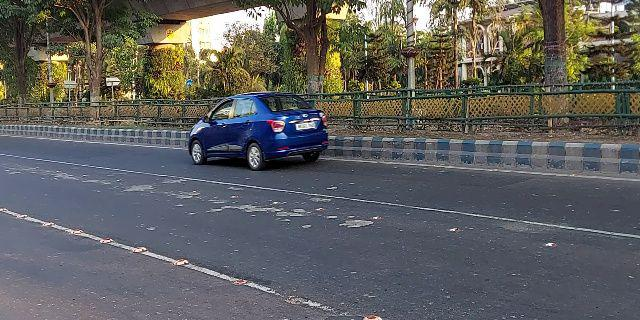Car: (187, 92, 330, 171)
